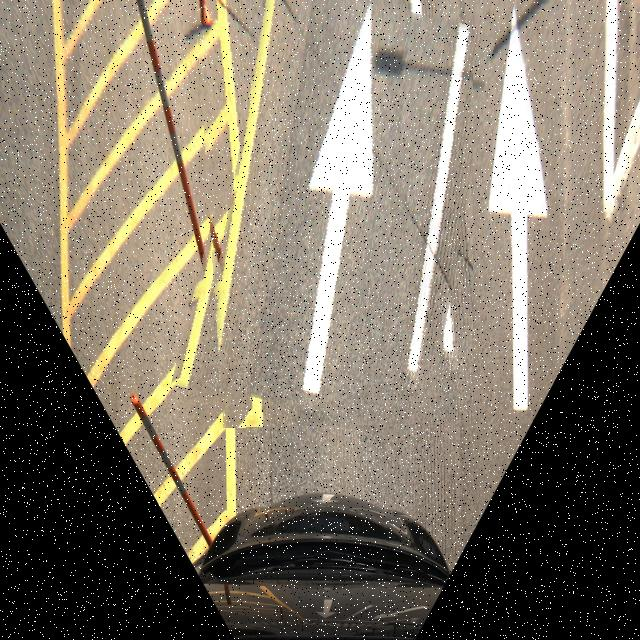forward: (195, 0, 473, 428)
